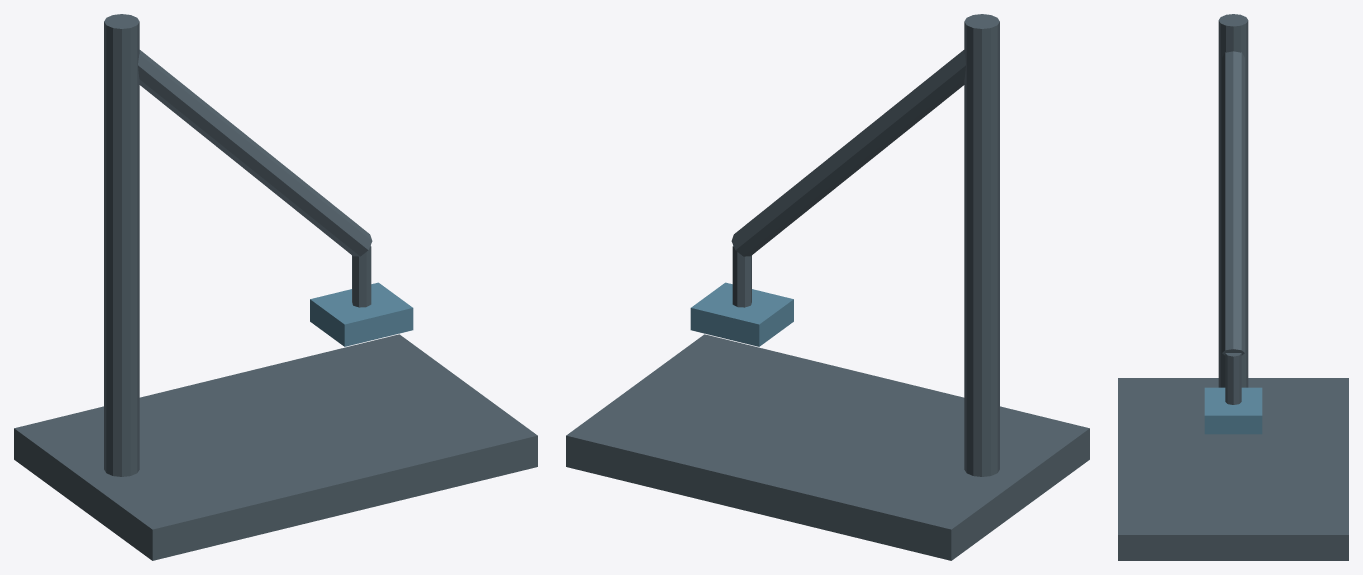
The model's file is american-football-stadium-kit-ball-holder-daa97a14__22376.glb.
3 renders of one model, left to right at view 1: azimuth 30°, elevation 25°; view 2: azimuth 150°, elevation 25°; view 3: azimuth 270°, elevation 25°, orthographic. The views are drawn at different scales.
Visible parts, largest first — view 1: ball-holder; view 2: ball-holder; view 3: ball-holder.
Boxes of the visible parts, bbox=[...] form: ball-holder: bbox=[14, 14, 537, 560]; ball-holder: bbox=[566, 14, 1089, 560]; ball-holder: bbox=[1118, 14, 1348, 560].
Size of the model in its own units: 0.45 by 0.535 by 0.28.
